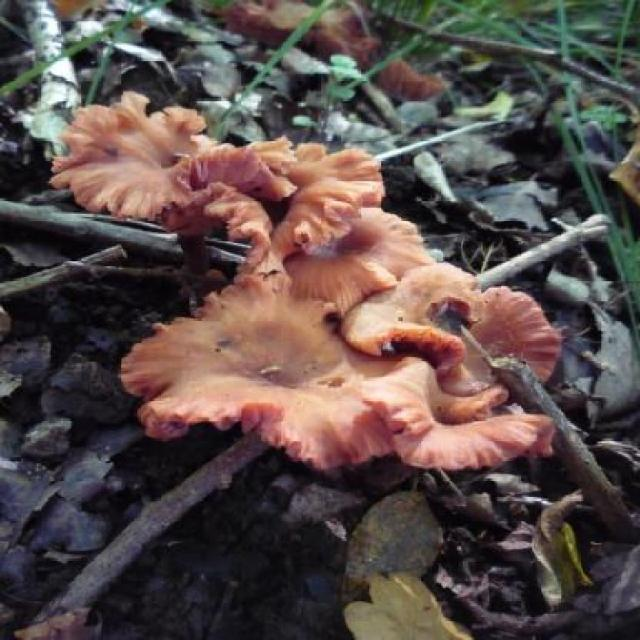Mushroom: (64, 117, 508, 431)
